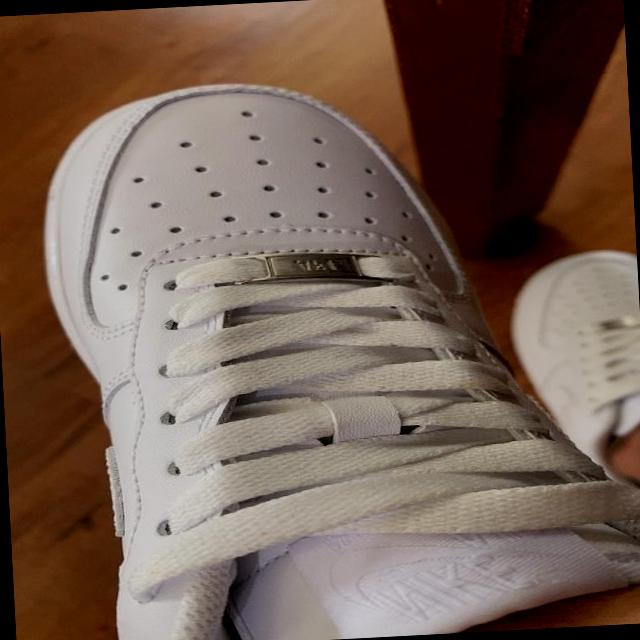nike_original_airforce: (26, 61, 640, 640)
